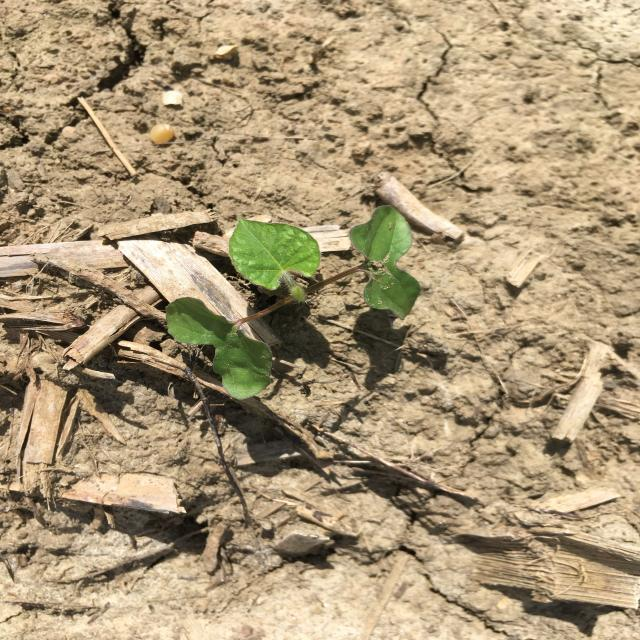MorningGlory: (166, 205, 420, 399)
